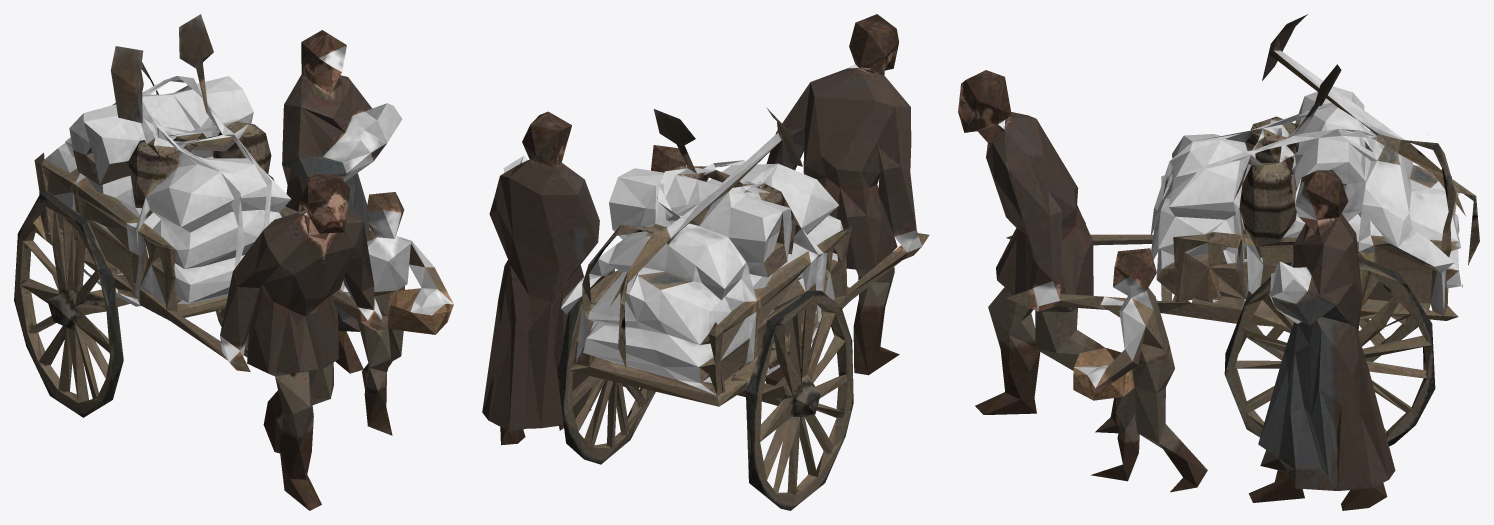
The model's file is settlers.glb.
3 views of the same model, side by side, from view 1: azimuth 30°, elevation 25°; view 2: azimuth 150°, elevation 25°; view 3: azimuth 270°, elevation 25° (orthographic). The views are drawn at different scales.
Parts seen in each view (by area): view 1: settlers; view 2: settlers; view 3: settlers.
Part boxes in pixels (x1,y1,x2,y2): settlers: (14,14,453,510); settlers: (482,14,929,510); settlers: (958,14,1479,510).
Size of the model in its own units: 1.76 by 1.85 by 2.32.
Materials: 2 (2 with a texture image).
